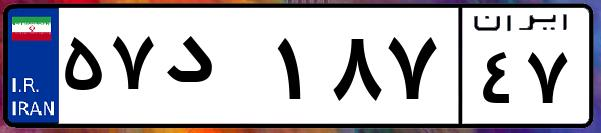1: (270, 28, 330, 110)
4: (475, 38, 525, 113)
5: (57, 26, 110, 100)
7: (385, 28, 445, 110), (525, 38, 570, 115), (110, 28, 158, 98)
8: (330, 28, 385, 110)
د: (158, 20, 270, 120)
